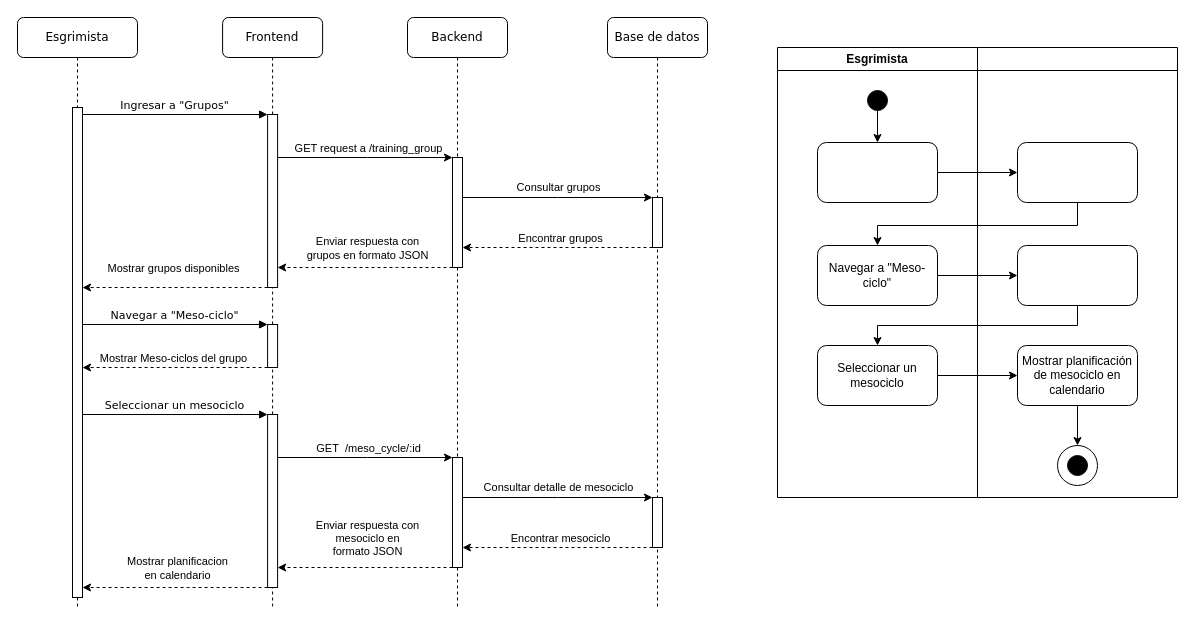
Some shapes in this 1195 by 625 pixel diagram are drawn without their labels. Each missing label, with the box of its shape:
Mostrar detalle de grupo: (1016, 142, 1138, 202)
Mostrar listado de mesociclos: (1016, 244, 1138, 306)
Navegar a "Grupos": (816, 142, 938, 202)
Web app: (976, 46, 1178, 498)
